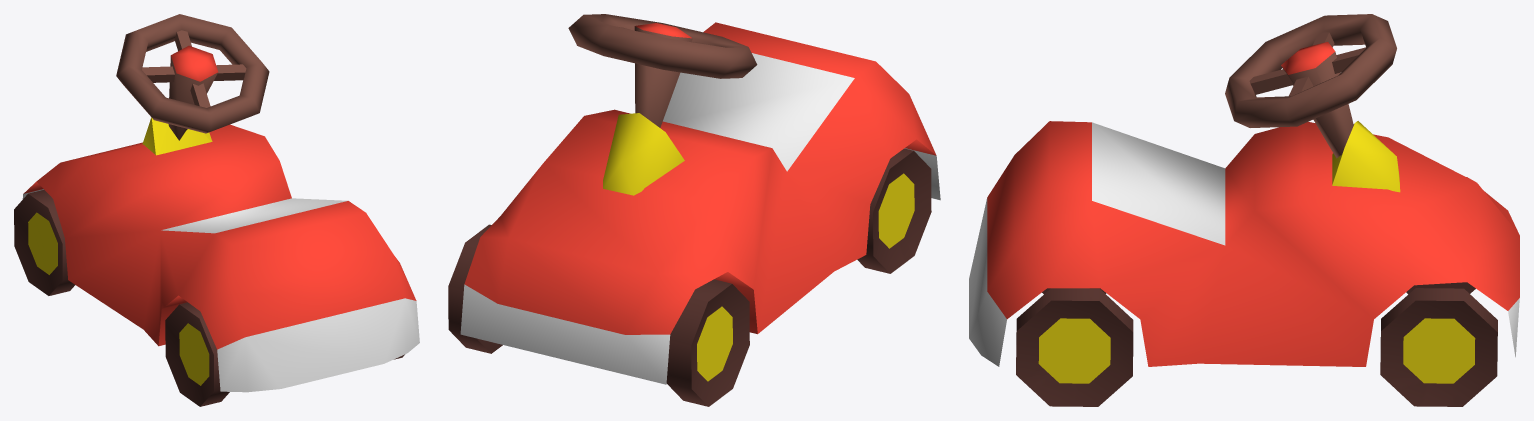
File: toy_016.glb
3 renders of one model, left to right at view 1: azimuth 30°, elevation 25°; view 2: azimuth 150°, elevation 25°; view 3: azimuth 270°, elevation 25°, orthographic. The views are drawn at different scales.
Visible parts, largest first — view 1: toy_016; view 2: toy_016; view 3: toy_016.
Part boxes in pixels (<box>): toy_016: <box>14,14,419,406</box>; toy_016: <box>448,14,940,406</box>; toy_016: <box>969,14,1519,406</box>.
Bounding box in the file's own units: 0.3026 × 0.3767 × 0.5902.
1 material, 1 textured.
